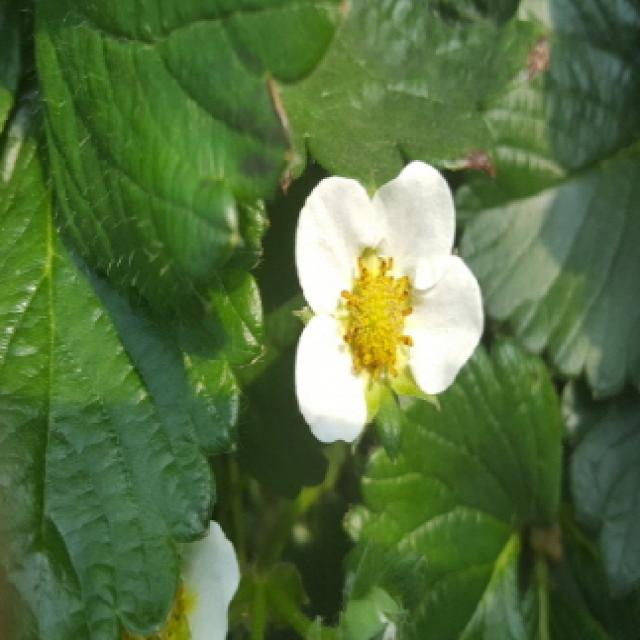Blossom Blight: (330, 241, 421, 392)
